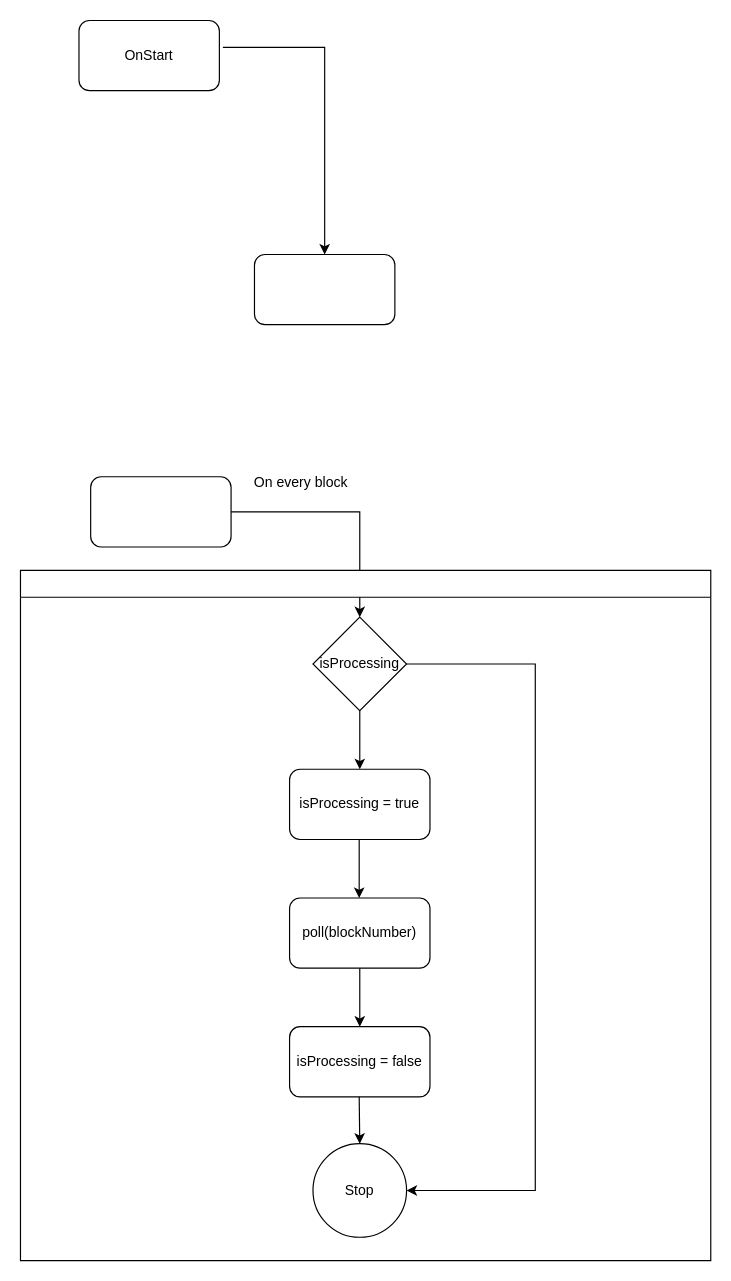
Some shapes in this 731 by 1281 pixel diagram are drawn without their labels. Here are the shapes that lost their labels. From the top down, the centre of each, then its label:
At (x=324, y=289): "Register Block Processing Handler".
At (x=160, y=511): "Ethers Provider".
At (x=365, y=915): "Block Processing Handler".
